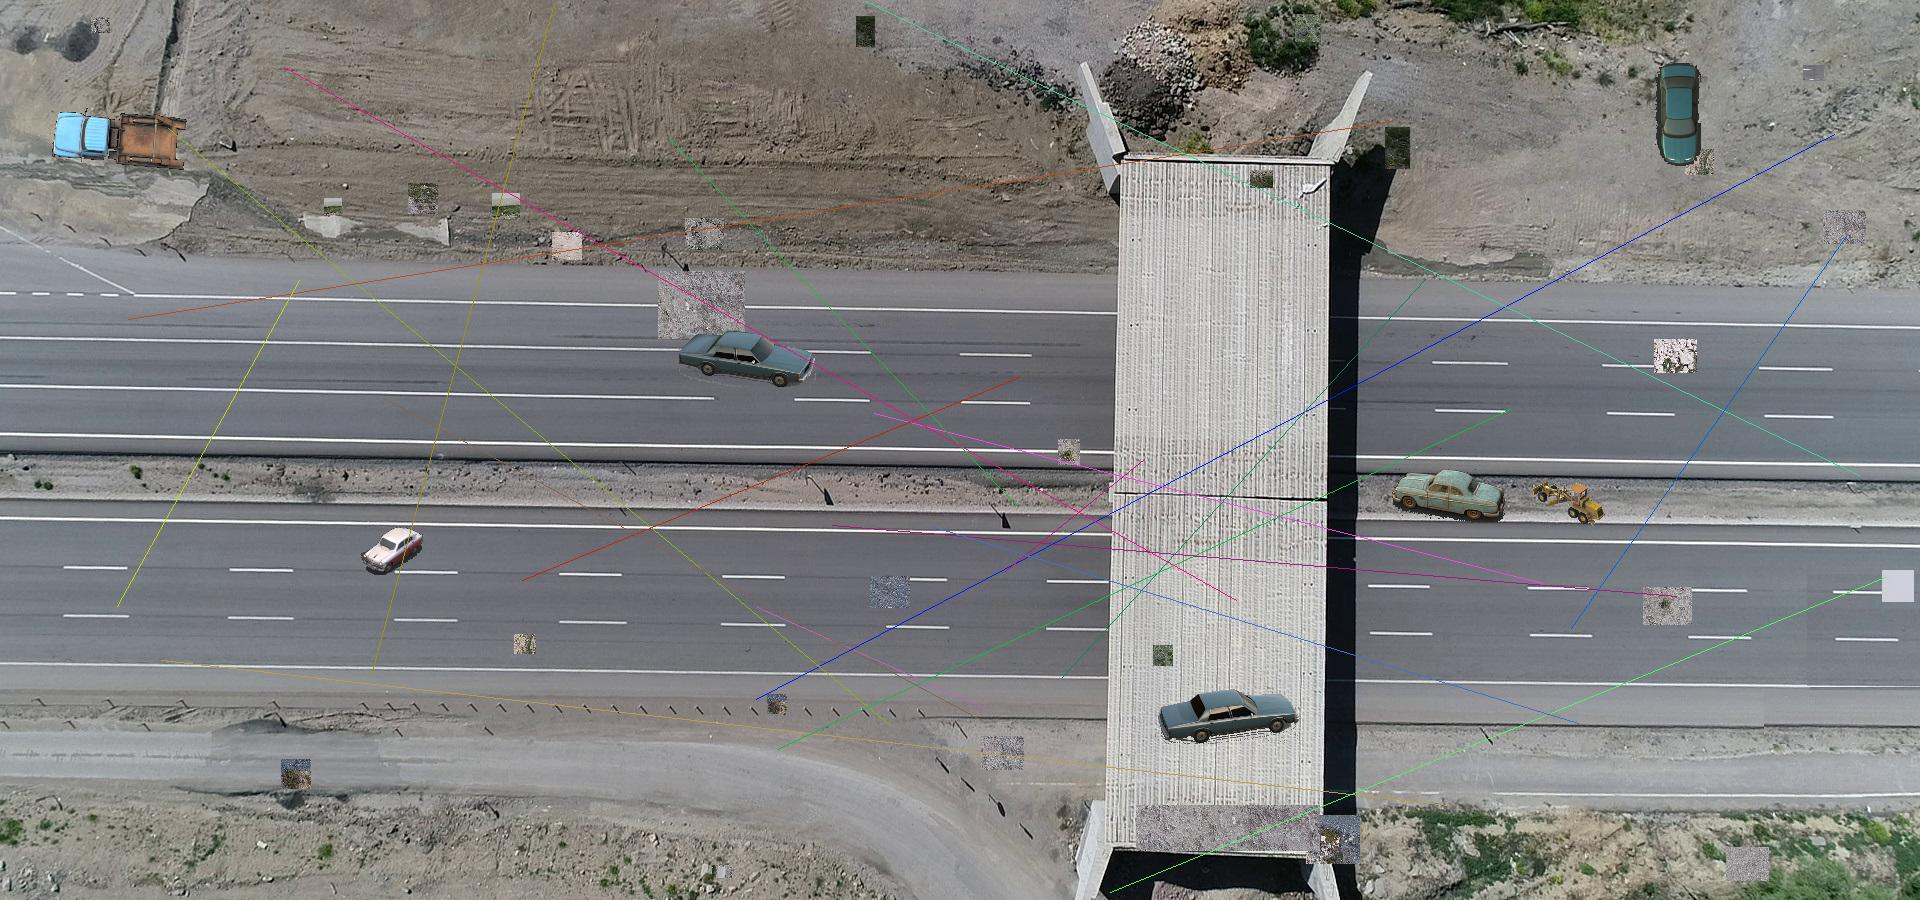arac: (48, 108, 189, 171), (1155, 688, 1303, 744), (680, 331, 816, 387), (1392, 467, 1505, 522), (1656, 62, 1701, 167), (1531, 479, 1608, 527), (360, 524, 425, 576)
